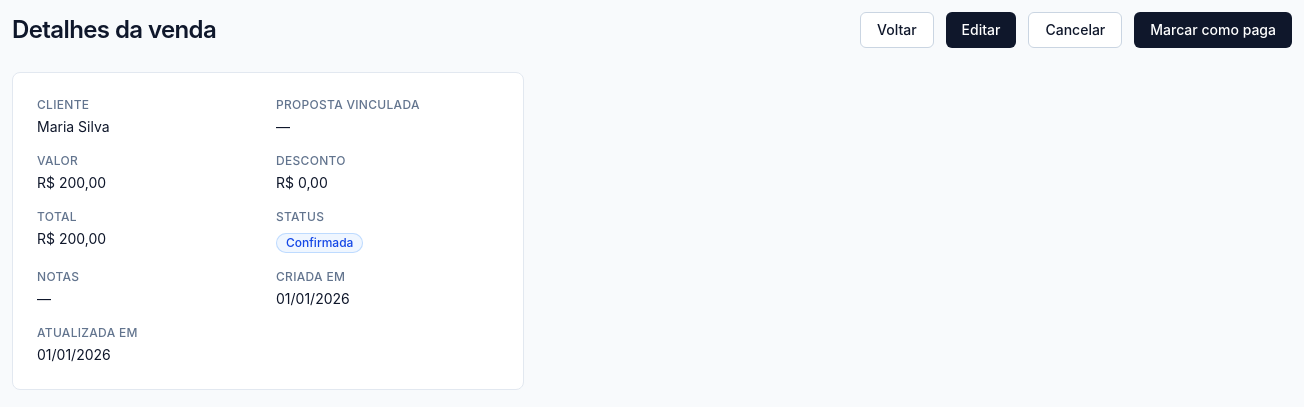
Test: SaleDetailsPage › lifecycle actions › disables all lifecycle buttons while a mutation is pending
Expected: the text "Maria Silva" is shown, x1=37 y1=118 x2=110 y2=135
Click the button "Marcar como paga" at (1213, 30), box x1=1134 y1=12 x2=1292 y2=48
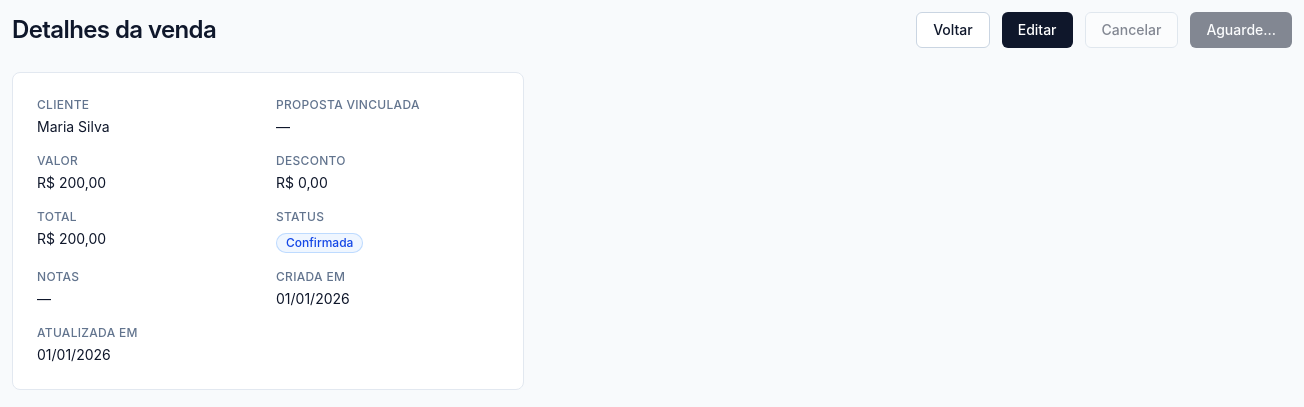
Expected: the button "Aguarde..." is disabled, x1=1190 y1=12 x2=1292 y2=48
Expected: the button "Cancelar" is disabled, x1=1084 y1=12 x2=1178 y2=48
